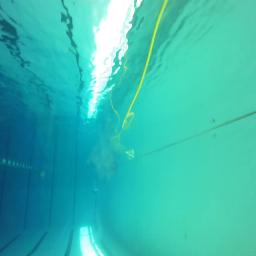Full: (92, 188, 98, 192)
